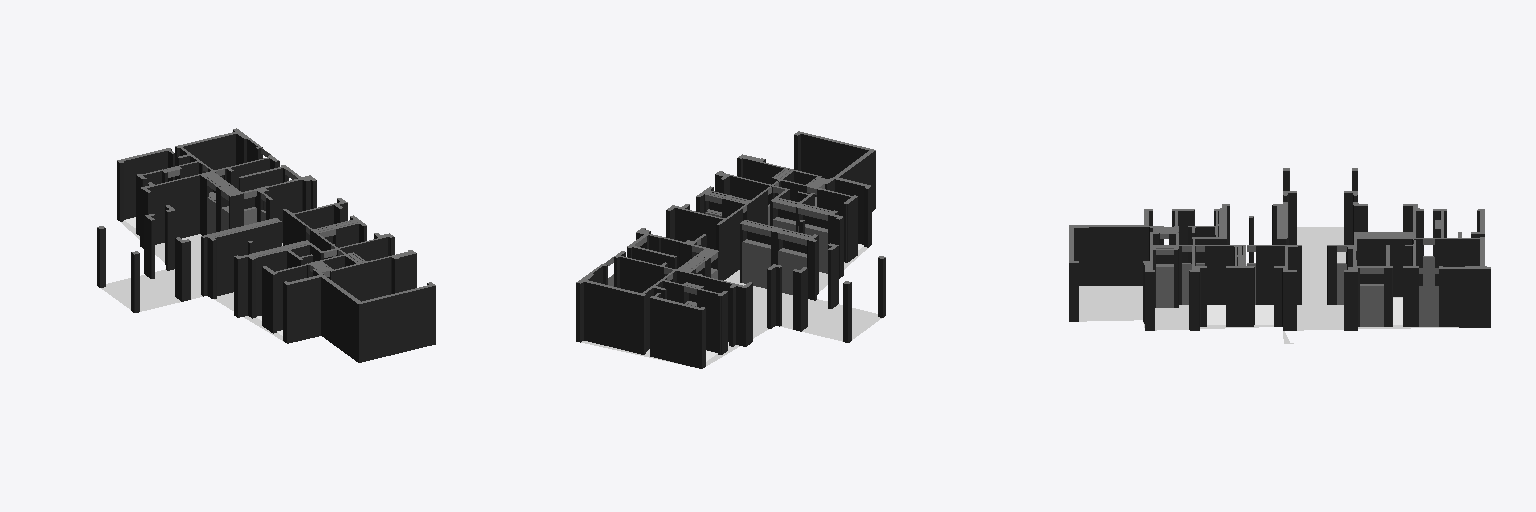
3 renders of one model, left to right at view 1: azimuth 30°, elevation 25°; view 2: azimuth 150°, elevation 25°; view 3: azimuth 270°, elevation 25°, orthographic.
Visible parts, largest first — view 1: Box13Wall242, Floor, Box14Wall260, Box13Wall241, Box17Wall337, Box13Wall240, Box7Wall130, Box10Wall197, Box8Wall160, Box1Wall16, Box15Wall292, Box0Wall0 (+8 smaller); view 2: Box8Wall170, Floor, Box10Wall204, Box13Wall246, Box3Wall58, Box3Wall55, Box6Wall118, Box57Wall229, Box11Wall216, Box13Wall241, Box61Wall245, Box14Wall281 (+6 smaller); view 3: Floor, Box13Wall247, Box8Wall167, Box14Wall275, Box4Wall72, Box4Wall60, Box8Wall159, Box3Wall45, Box32Wall130, Box6Wall114, Box1Wall22, Box3Wall52 (+6 smaller).
Part boxes in pixels (left/top/right/bottom): Box13Wall242: left=359, top=286, right=435, bottom=362; Floor: left=101, top=217, right=283, bottom=341; Box14Wall260: left=147, top=175, right=199, bottom=244; Box13Wall241: left=321, top=277, right=358, bottom=362; Box17Wall337: left=215, top=222, right=281, bottom=295; Box13Wall240: left=287, top=277, right=320, bottom=343; Box7Wall130: left=331, top=257, right=390, bottom=301; Box10Wall197: left=124, top=151, right=167, bottom=219; Box8Wall160: left=183, top=134, right=235, bottom=178; Box1Wall16: left=266, top=180, right=301, bottom=242; Box15Wall292: left=256, top=251, right=286, bottom=316; Box0Wall0: left=240, top=168, right=282, bottom=208; Box8Wall170: left=584, top=282, right=643, bottom=354; Floor: left=581, top=244, right=881, bottom=367; Box10Wall204: left=650, top=298, right=701, bottom=368; Box13Wall246: left=801, top=134, right=868, bottom=178; Box3Wall58: left=719, top=209, right=742, bottom=280; Box3Wall55: left=675, top=208, right=722, bottom=253; Box6Wall118: left=620, top=257, right=664, bottom=292; Box57Wall229: left=742, top=242, right=770, bottom=288; Box11Wall216: left=697, top=289, right=717, bottom=352; Box13Wall241: left=839, top=151, right=875, bottom=211; Box61Wall245: left=778, top=251, right=806, bottom=294; Box14Wall281: left=677, top=271, right=731, bottom=341; Floor: left=1079, top=227, right=1458, bottom=343; Box13Wall247: left=1074, top=227, right=1148, bottom=285; Box8Wall167: left=1439, top=269, right=1490, bottom=327; Box14Wall275: left=1357, top=239, right=1411, bottom=296; Box4Wall72: left=1226, top=268, right=1253, bottom=326; Box4Wall60: left=1205, top=246, right=1233, bottom=304; Box8Wall159: left=1434, top=239, right=1479, bottom=285; Box3Wall45: left=1256, top=246, right=1284, bottom=304; Box32Wall130: left=1360, top=286, right=1383, bottom=326; Box6Wall114: left=1403, top=268, right=1418, bottom=326; Box1Wall22: left=1344, top=272, right=1357, bottom=330; Box3Wall52: left=1283, top=272, right=1296, bottom=330.
Size of the model in its own units: 10.66 by 2.5 by 16.24.